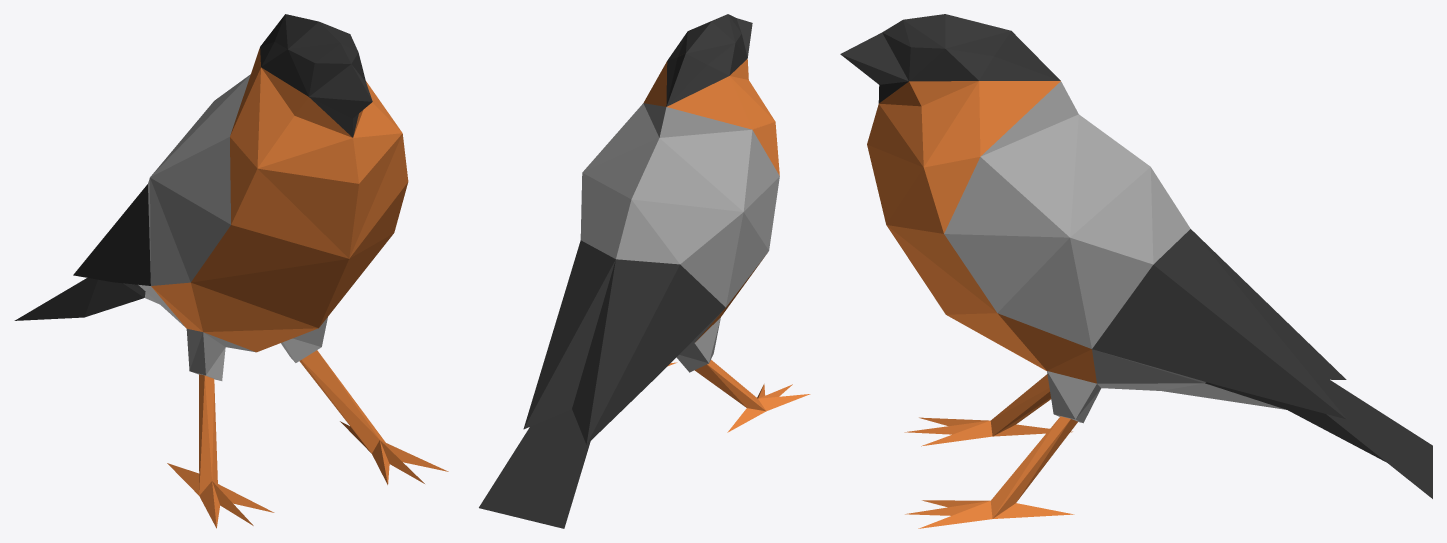
The model's file is bullfinch_inv.dae.
3 renders of one model, left to right at view 1: azimuth 30°, elevation 25°; view 2: azimuth 150°, elevation 25°; view 3: azimuth 270°, elevation 25°, orthographic. The views are drawn at different scales.
Parts seen in each view (by area): view 1: Plane_Plane_4; view 2: Plane_Plane_4; view 3: Plane_Plane_4.
Part boxes in pixels (x1,y1,x2,y2): Plane_Plane_4: (14,14,448,528); Plane_Plane_4: (479,14,810,528); Plane_Plane_4: (840,14,1432,528).
Size of the model in its own units: 2.63 by 5.92 by 5.06.
1 material, 1 textured.
